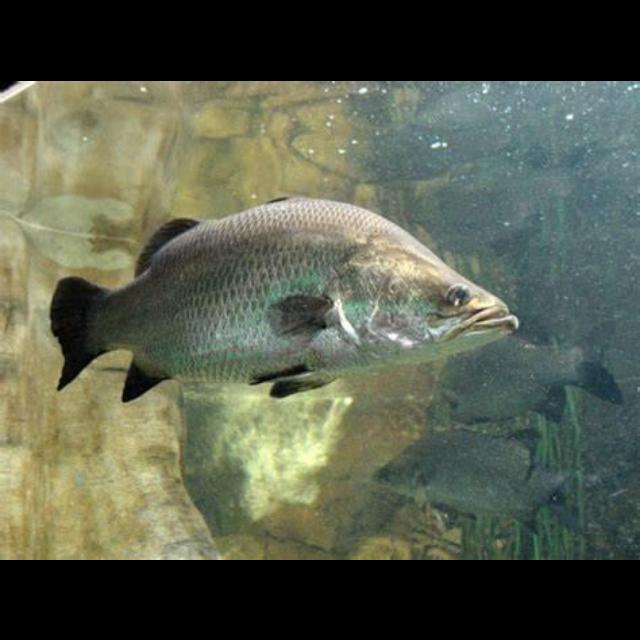Seabass: (52, 196, 524, 400)
